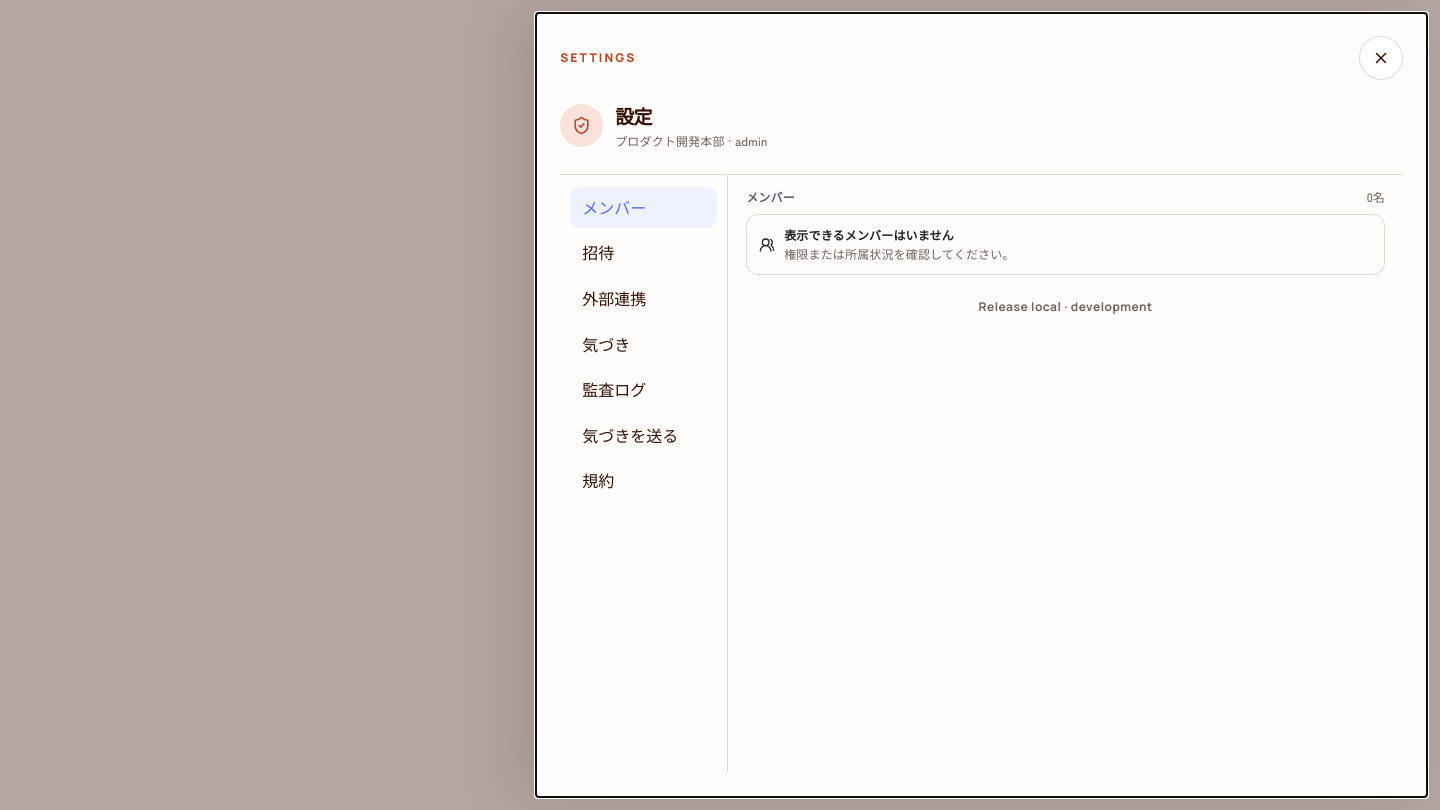
it: OperationsPanel invitation administration › lists and revokes a pending invitation, then refreshes the operational snapshot
Click the button "招待".
click(644, 253)  # box [570, 232, 717, 274]
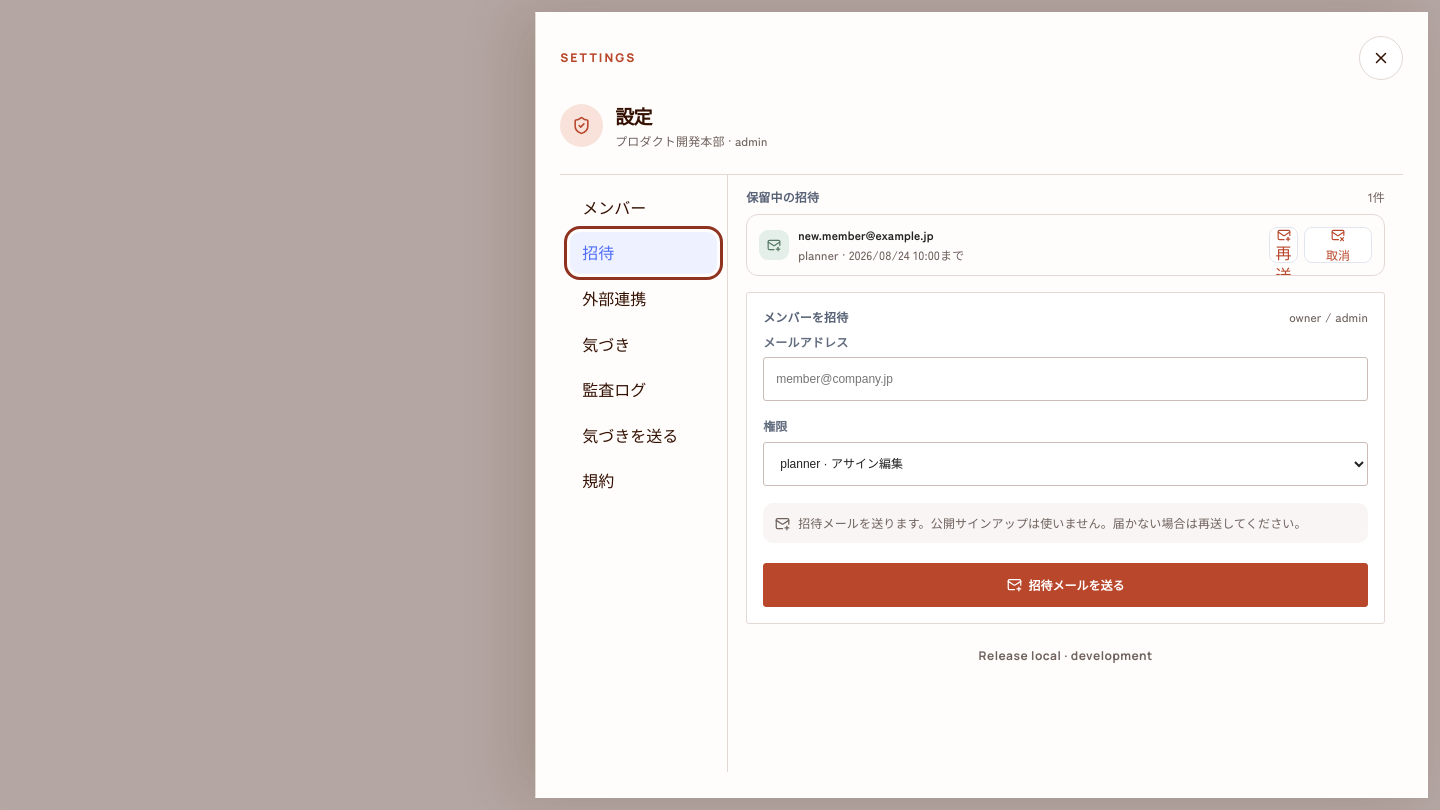
Now the text "new.member@example.jp" is shown, box [798, 226, 934, 243]
Click the button "取消".
click(1338, 245)  # box [1304, 227, 1372, 263]
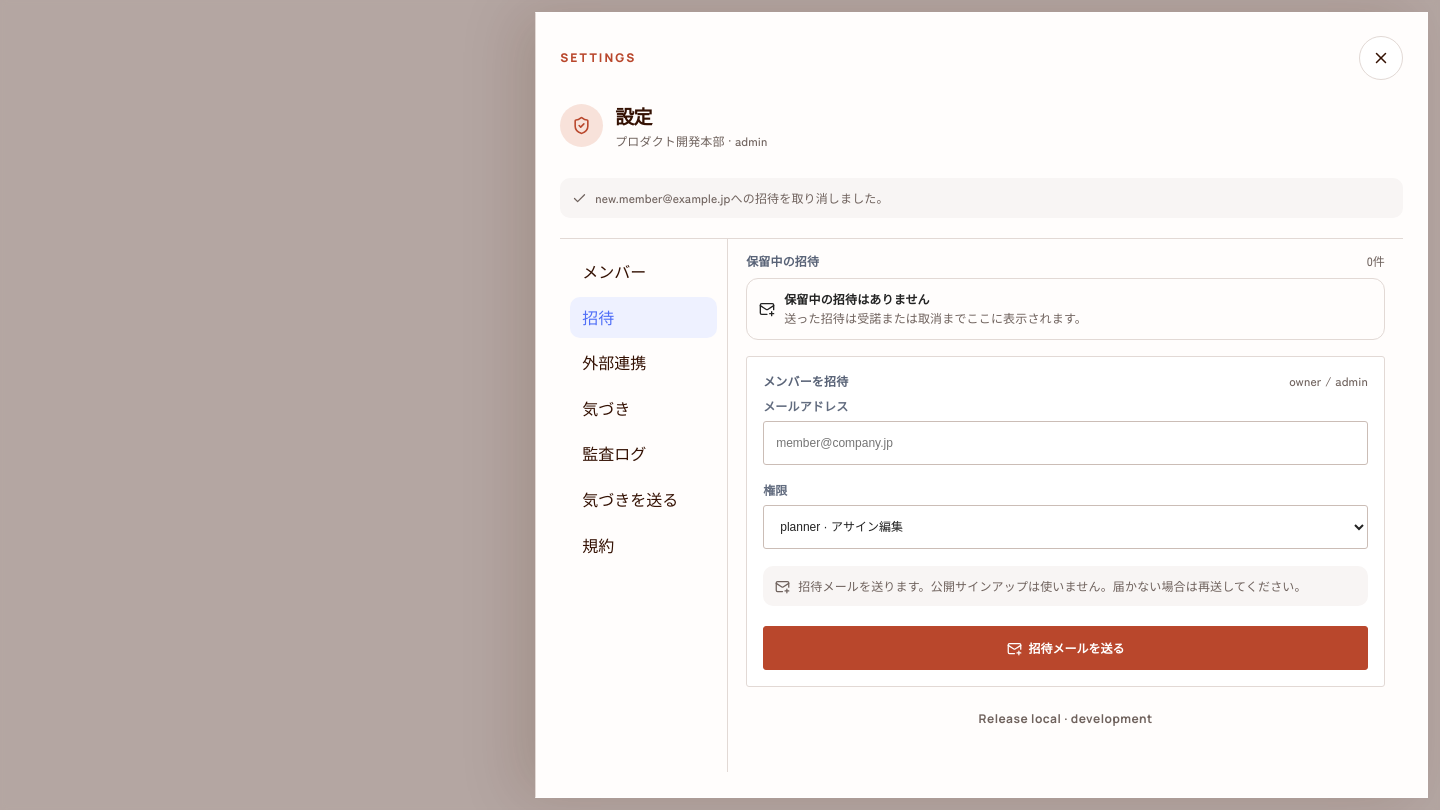
Now the text "new.member@example.jpへの招待を取り消しました。" is shown, box [595, 190, 889, 206]
